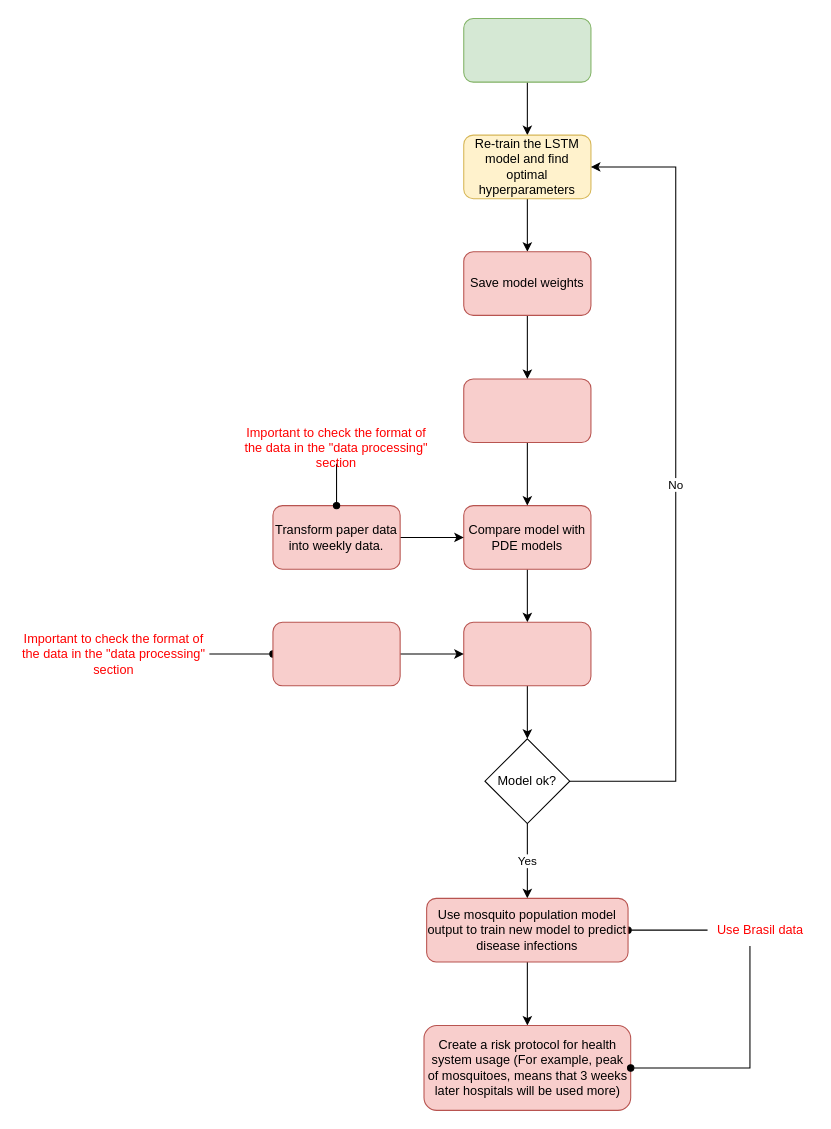
This 831x1129 diagram has some shape labels left out. Each missing label, with the box of its shape:
Check how the model predicts mosquito population in the data from Brazil: (463, 621, 591, 686)
Load model weights into new Colab: (463, 378, 591, 443)
Transform Brazil data into current format: (272, 621, 400, 686)
Transform data into weekly basis: (463, 17, 591, 82)
